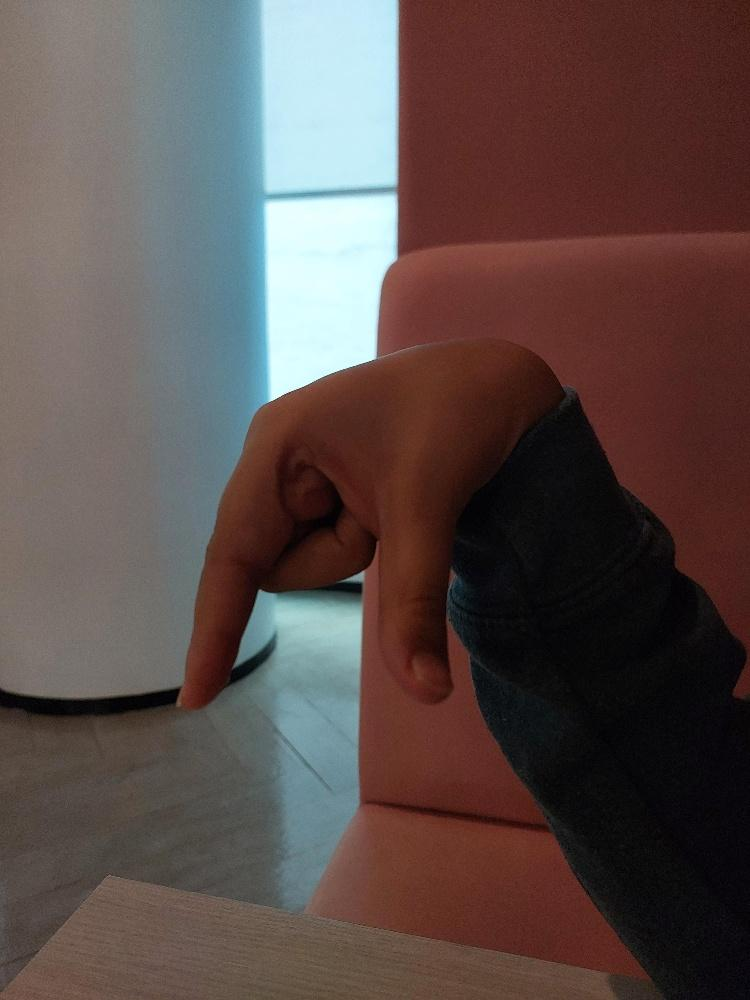q: (170, 325, 558, 719)
